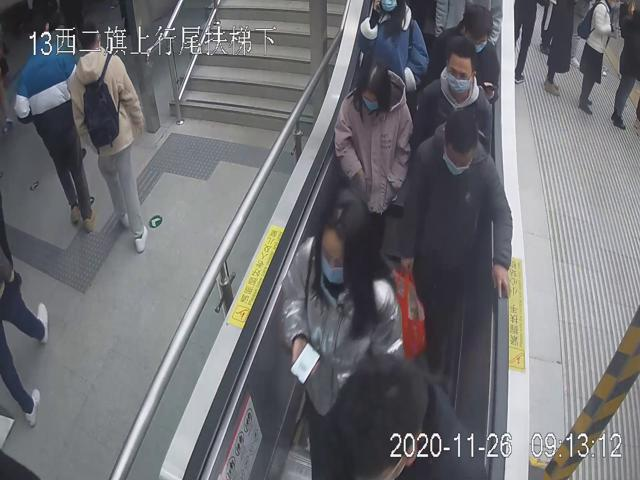person: (280, 185, 403, 430), (403, 108, 513, 377), (13, 6, 96, 234), (72, 18, 151, 255), (333, 56, 414, 228), (414, 36, 494, 161)
